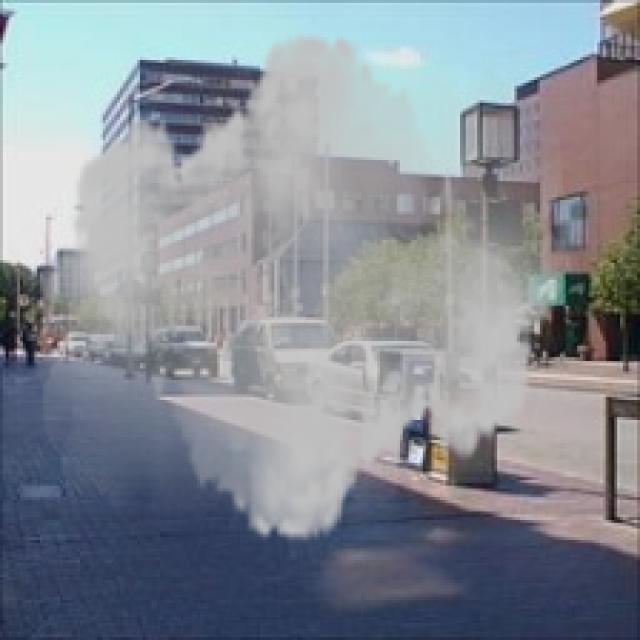Smoke: (32, 11, 574, 563)
